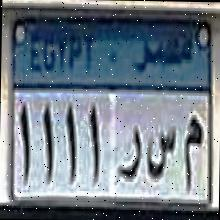1: (64, 100, 76, 188), (88, 100, 100, 182), (19, 99, 30, 178), (42, 101, 52, 180)
meem: (182, 112, 202, 188)
raa: (118, 121, 142, 181)
seen: (144, 120, 178, 182)
